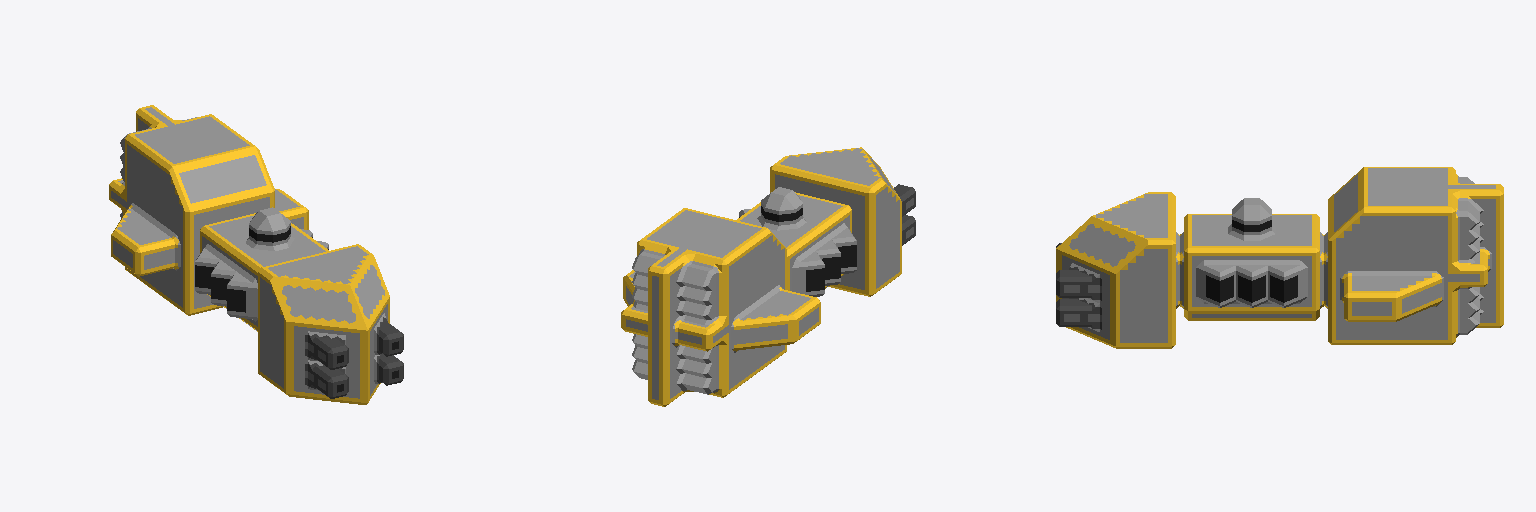
3 renders of one model, left to right at view 1: azimuth 30°, elevation 25°; view 2: azimuth 150°, elevation 25°; view 3: azimuth 270°, elevation 25°, orthographic.
Size of the model in its own units: 25 by 19 by 56.
1 materials, 1 textured.